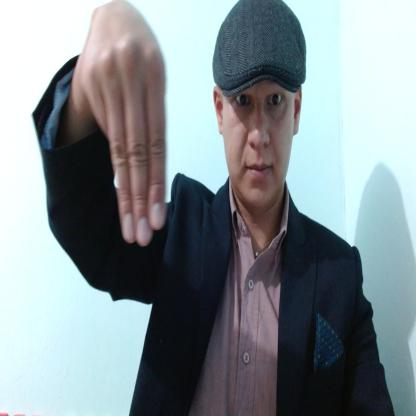M: (81, 5, 166, 245)
